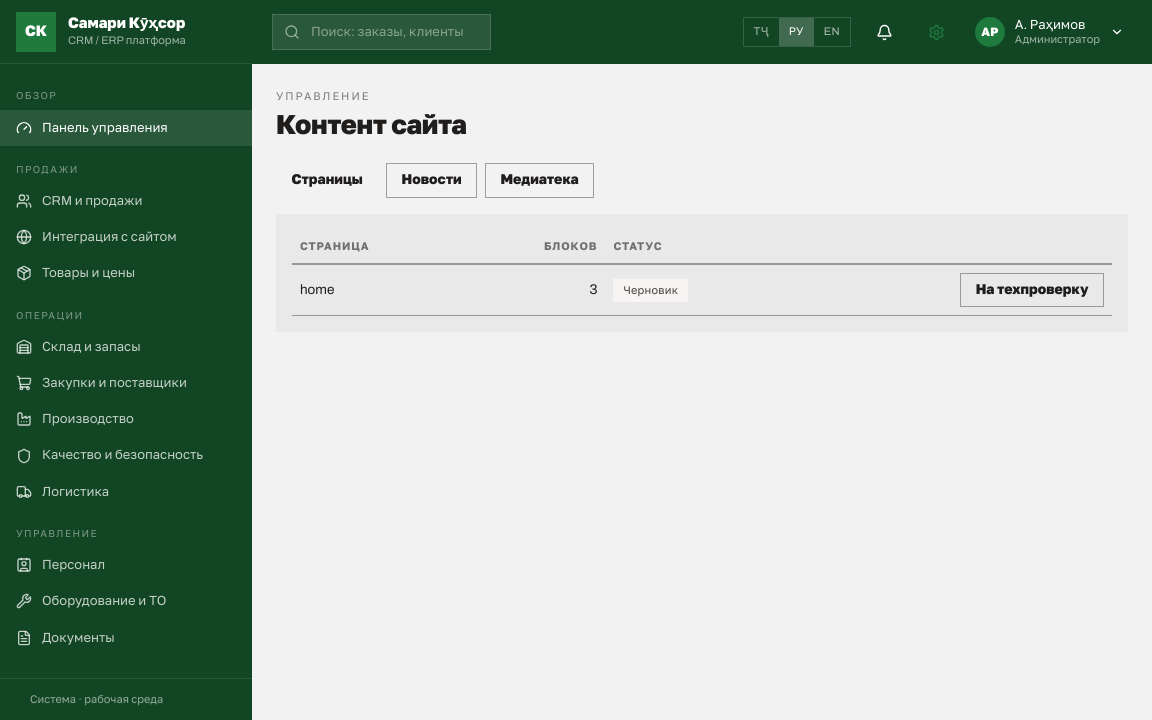
it: the workflow ladder › surfaces the server refusal, which names the actual rule
Click the tab "Новости" at (432, 180), box [386,163,477,198]
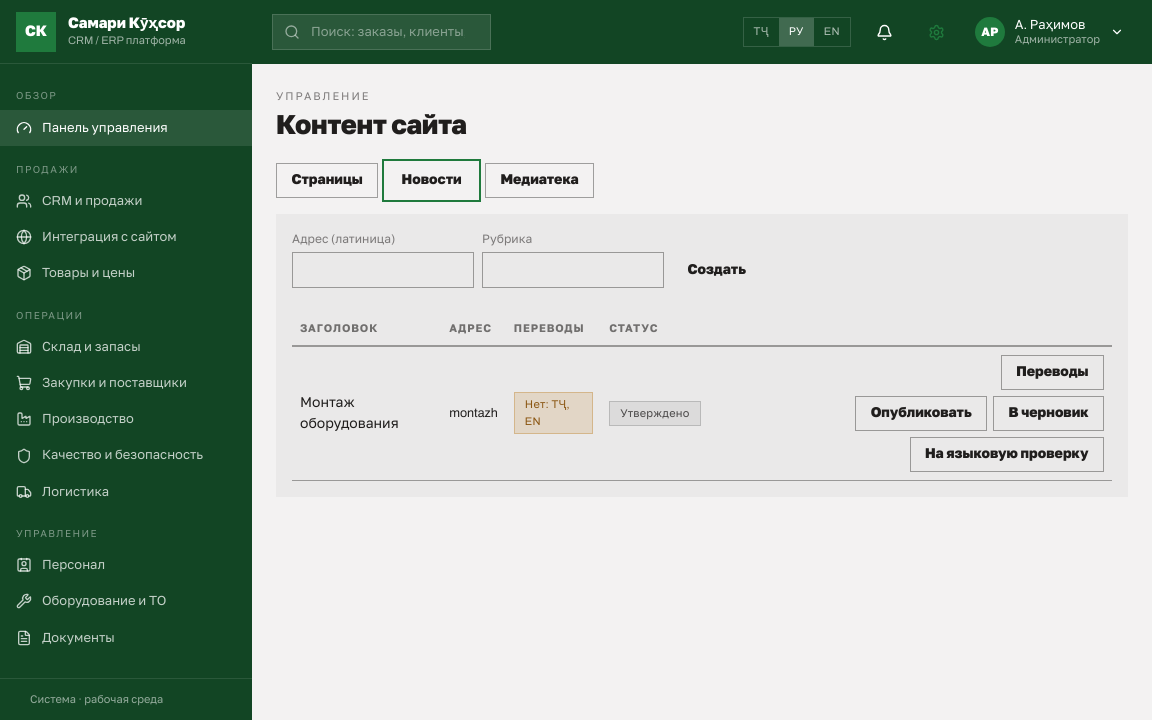
expect the text "Монтаж оборудования" is shown: met, box [292,346,441,480]
Click the button "Опубликовать" at (921, 413), box [855,396,987,431]
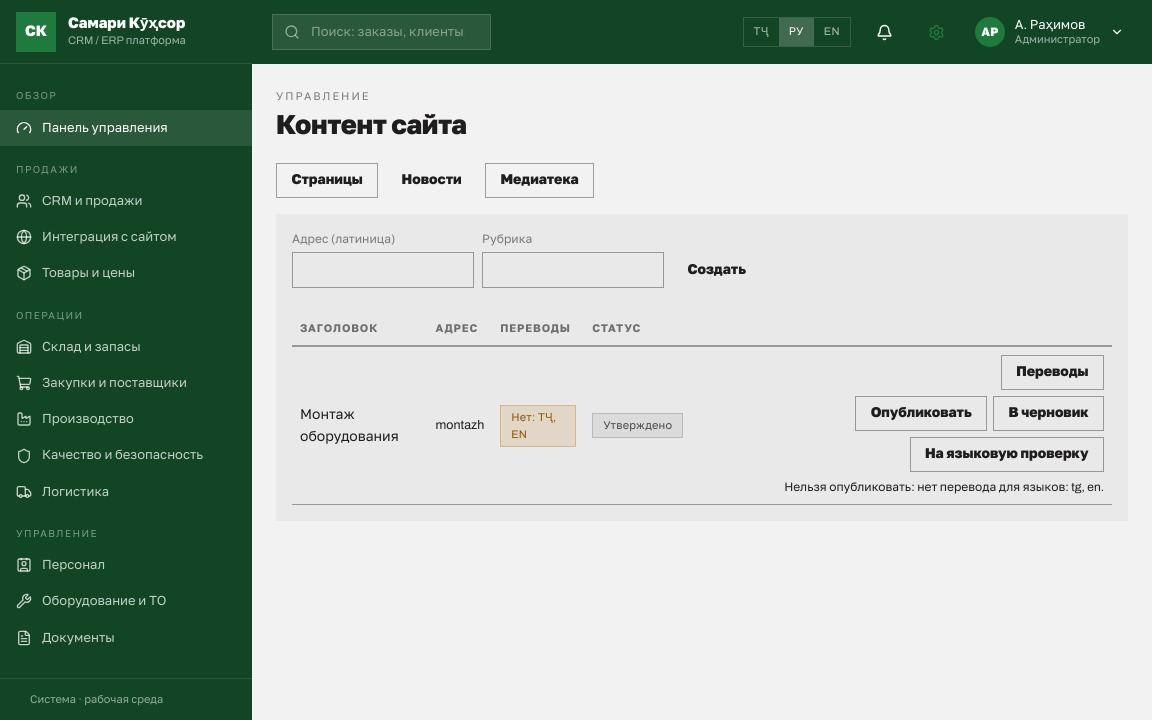
expect the message with test id "workflow-error" shows "нет перевода для языков: tg, en": met, box [784,480,1104,494]
